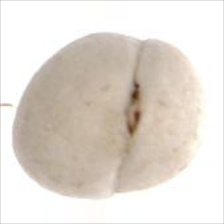L3: (122, 82, 143, 136)
L4: (12, 33, 205, 198)
